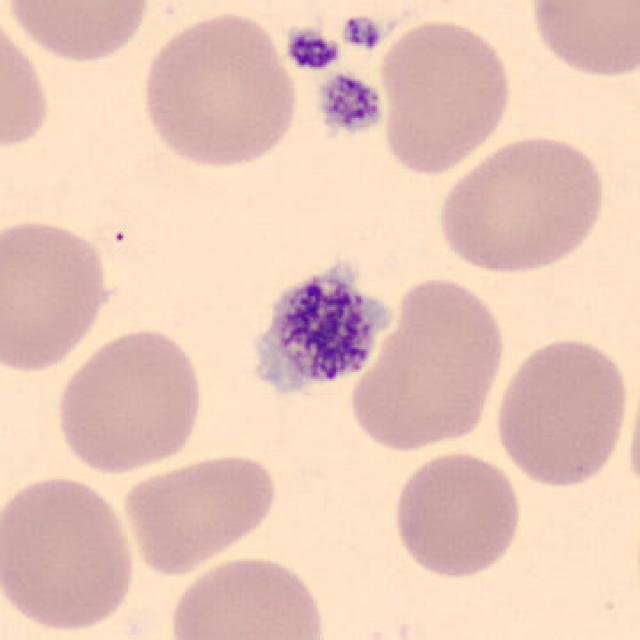Platelets: (237, 258, 406, 414), (313, 70, 387, 138), (281, 25, 343, 72), (338, 12, 384, 53)
RBC: (343, 272, 510, 456), (135, 7, 301, 173), (432, 129, 612, 277), (0, 469, 142, 636), (52, 324, 208, 476), (372, 14, 516, 178), (489, 331, 633, 492), (117, 448, 281, 576), (0, 213, 117, 375), (388, 448, 526, 582), (165, 552, 331, 640), (522, 0, 640, 83), (4, 0, 154, 65), (0, 7, 55, 159)
